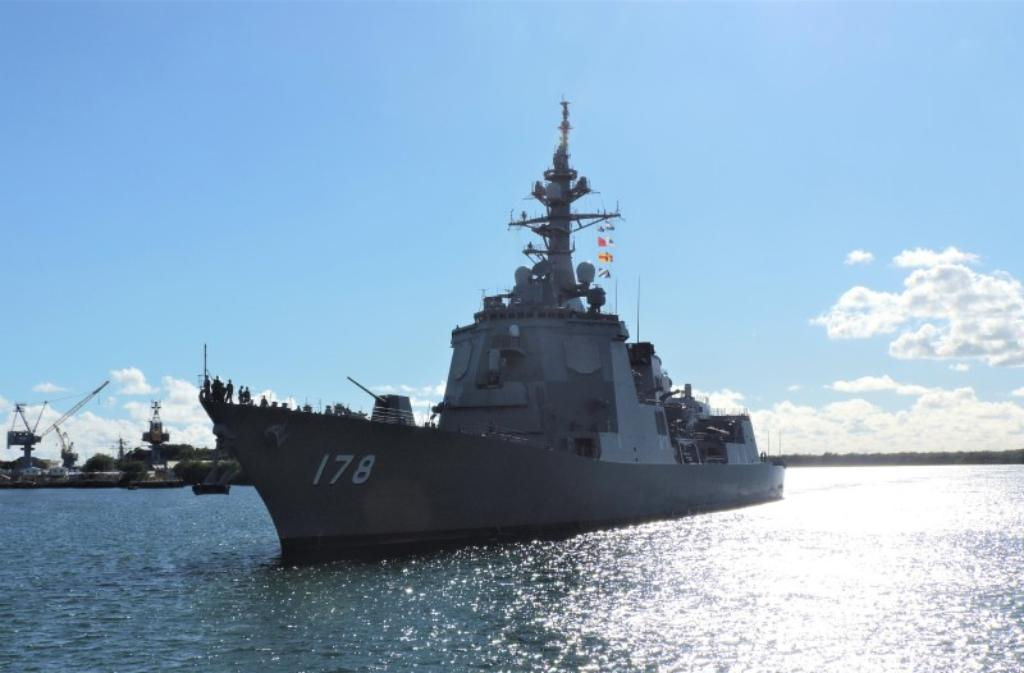Warship: (200, 99, 786, 567)
